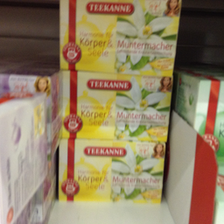tea: (60, 1, 182, 72), (56, 70, 173, 142), (57, 141, 167, 203)
